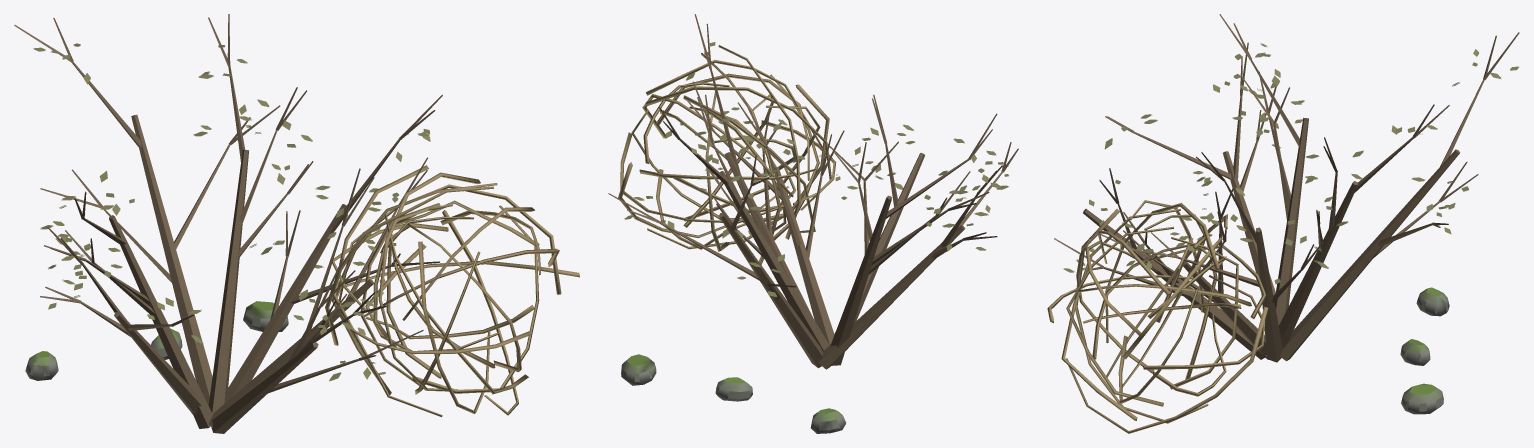
Rendered from dry_bush_tumbleweed.glb.
3 renders of one model, left to right at view 1: azimuth 30°, elevation 25°; view 2: azimuth 150°, elevation 25°; view 3: azimuth 270°, elevation 25°, orthographic. The views are drawn at different scales.
Parts seen in each view (by area): view 1: dry_bush_tumbleweed; view 2: dry_bush_tumbleweed; view 3: dry_bush_tumbleweed.
Boxes of the visible parts, box(x1,y1,x2,y2) form: dry_bush_tumbleweed: box(14, 14, 579, 433); dry_bush_tumbleweed: box(608, 14, 1018, 433); dry_bush_tumbleweed: box(1047, 14, 1519, 433).
Bounding box in the file's own units: 1.96 × 1.31 × 1.83.
Materials: 4 (4 with a texture image).
